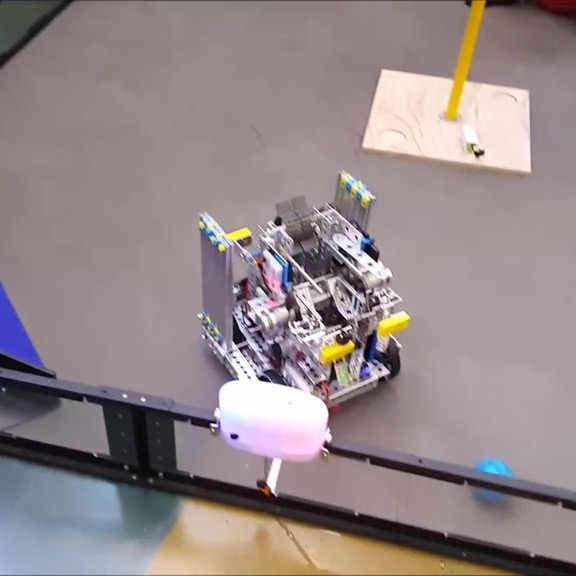ball: (464, 453, 519, 492)
robot: (195, 167, 411, 410)
